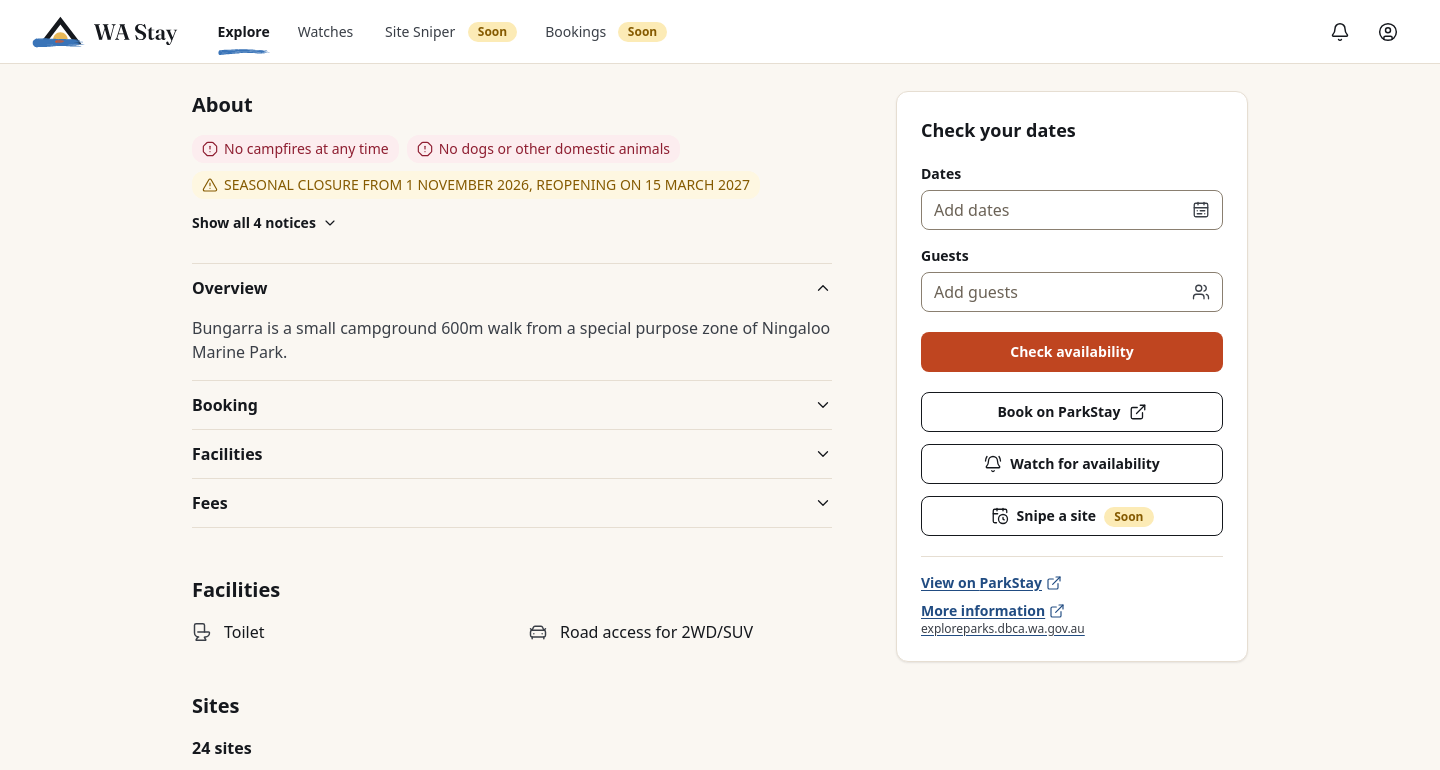
Test case: Place detail page › a description in sections, with notices › shows the sections as an accordion: heading buttons, the intro open and the rest closed
(page scrolled)
Expected: the heading "About" is shown, [192,91,253,118]
// The WAI-ARIA disclosure pattern: a click, Enter or Space toggles it.
Click the button "Booking" at (225, 405), box [192,381,832,429]
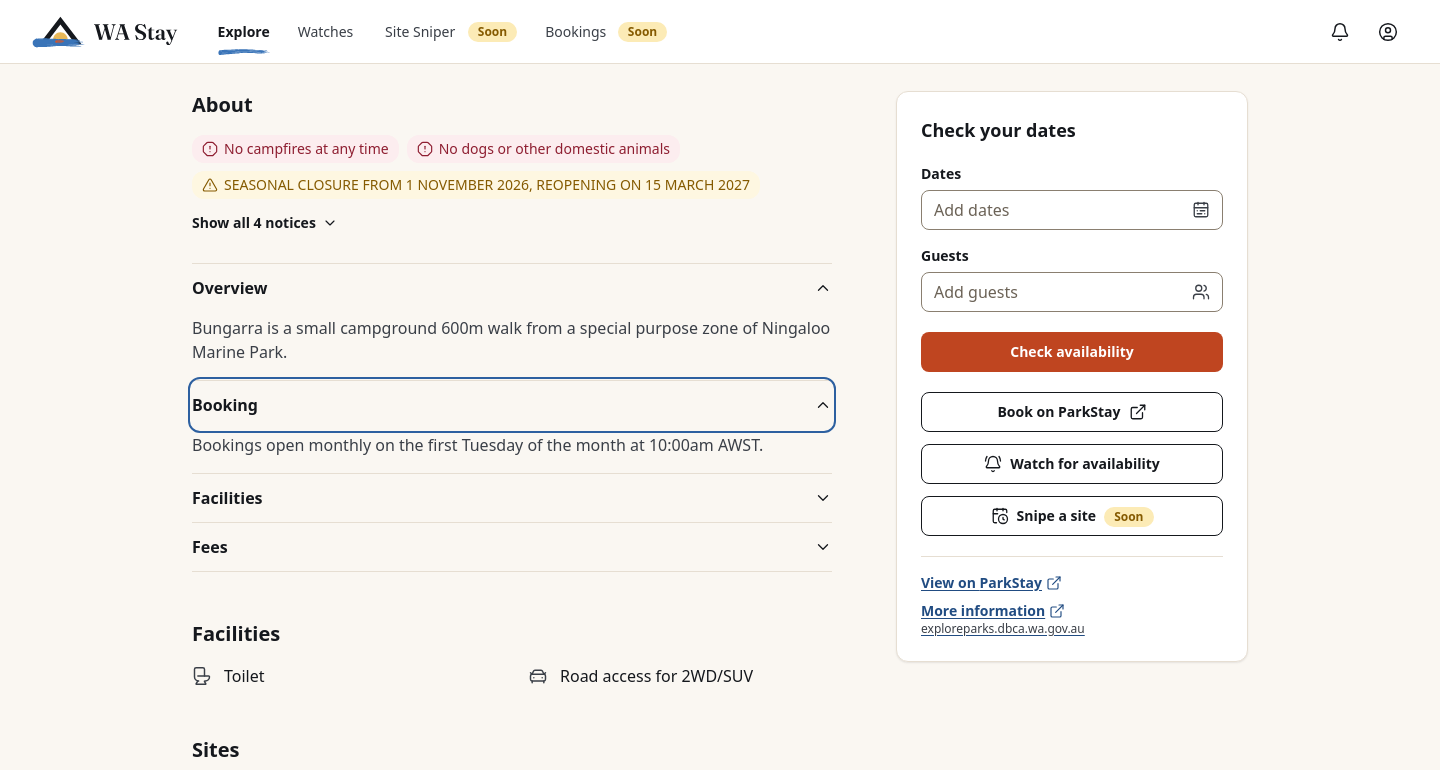
Now the button "Booking" is expanded, box [192,381,832,429]
Press Enter
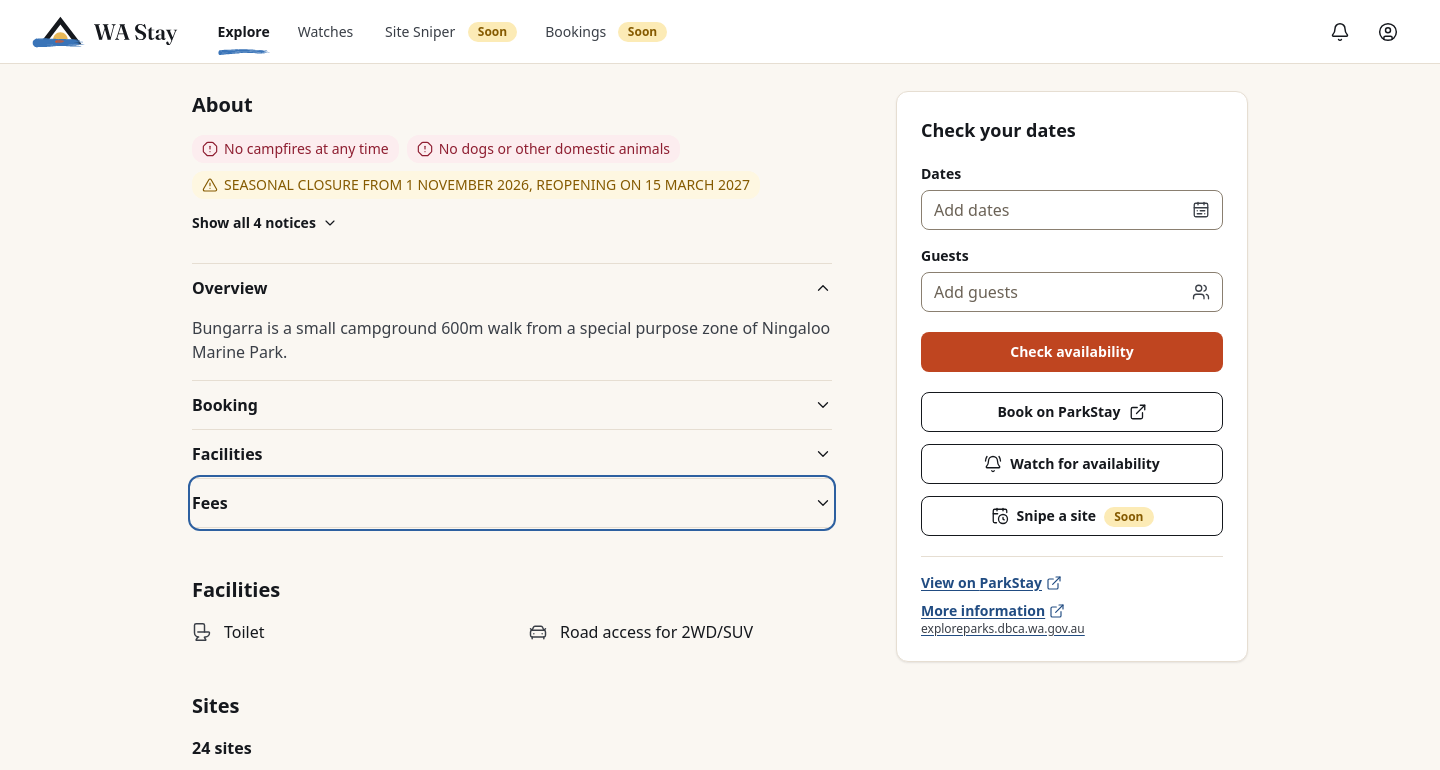
Now the button "Booking" is collapsed, box [192,381,832,429]
Type keys " "
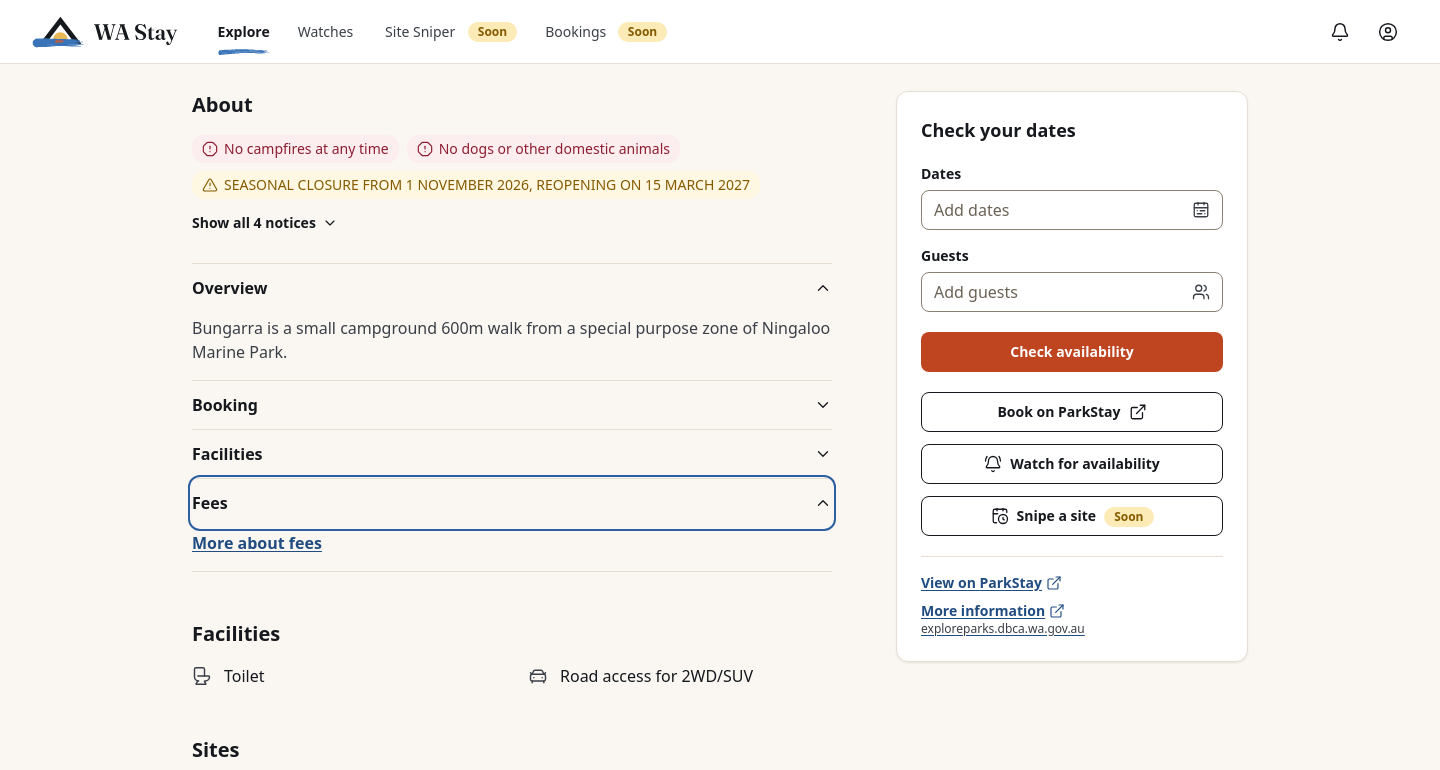
Now the button "Fees" is expanded, box [192,479,832,527]
Click the button "Overview" at (230, 288), box [192,264,832,312]
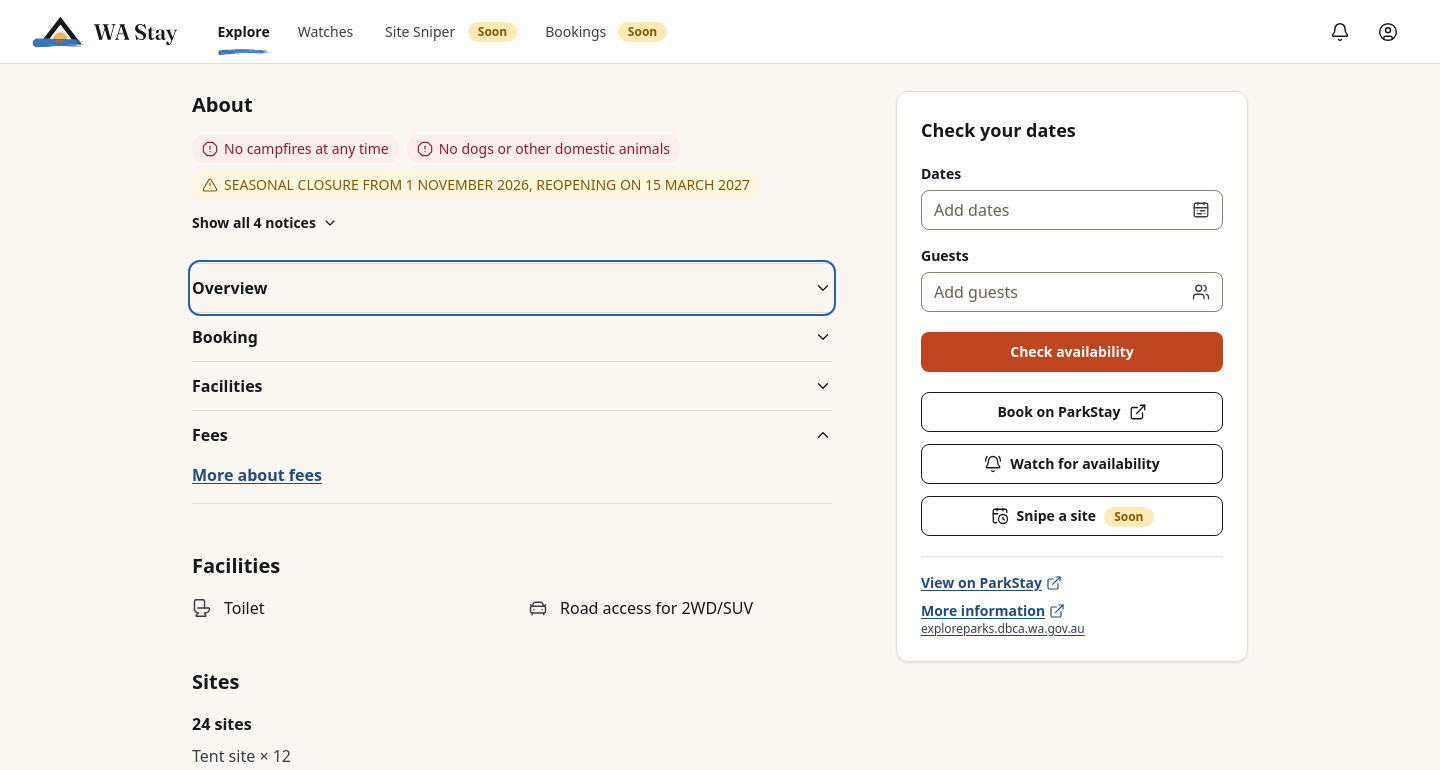
Now the button "Overview" is collapsed, box [192,264,832,312]
